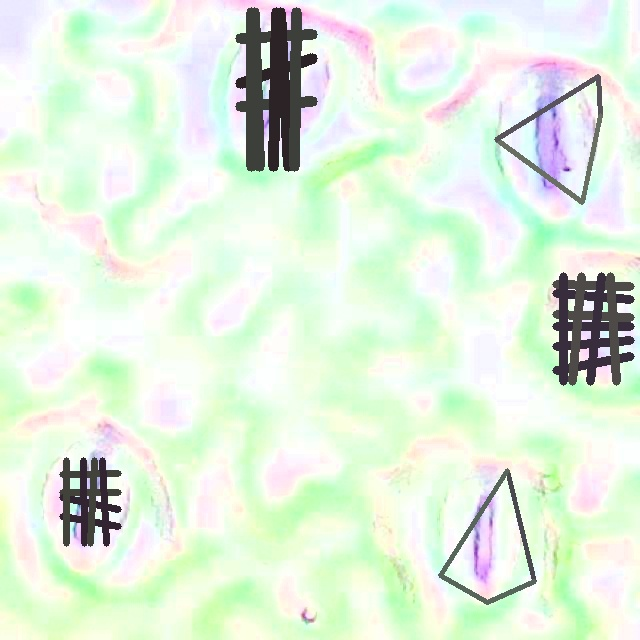close: (552, 272, 634, 385)
open: (494, 74, 601, 204), (236, 8, 316, 171), (439, 469, 535, 603), (59, 457, 121, 546)
